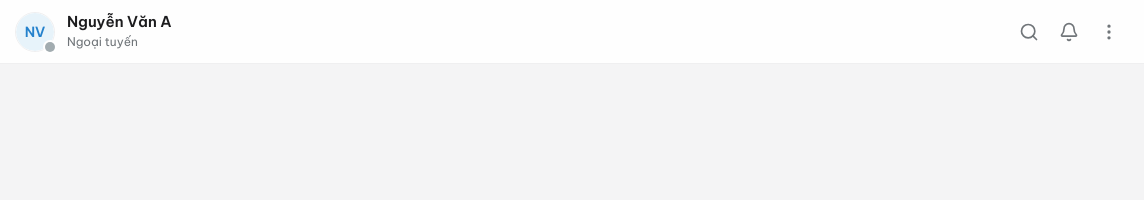
Test case: ChatHeader Component Tests › 3-dot menu (FR-48) › shows "Bỏ ghim" when pinned and "Bỏ chặn" when blocked by me
Click the button named "Tùy chọn hội thoại": (1109,32) x1=1091 y1=14 x2=1127 y2=50
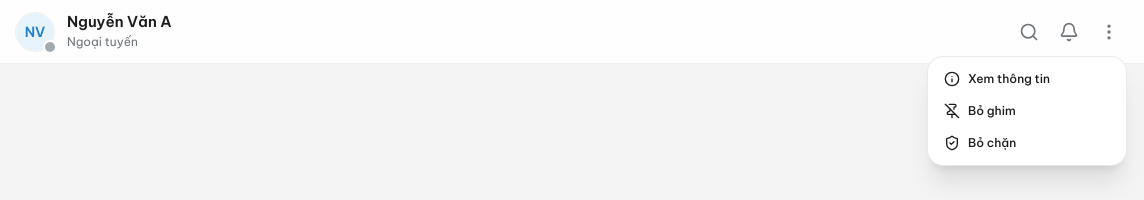
Expected: the menu item "Bỏ ghim" is shown, x1=944 y1=103 x2=1016 y2=119
Expected: the menu item "Bỏ chặn" is shown, x1=944 y1=135 x2=1016 y2=151
